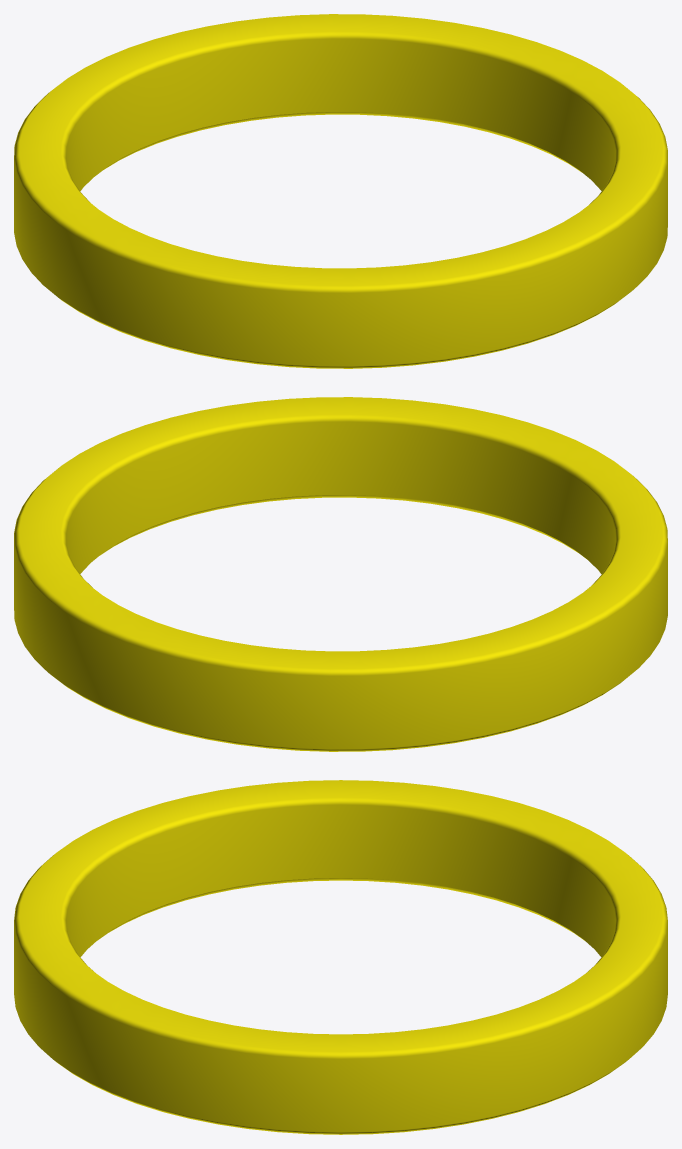
3 renders of one model, top to bottom at view 1: azimuth 30°, elevation 25°; view 2: azimuth 150°, elevation 25°; view 3: azimuth 270°, elevation 25°, orthographic.
Visible parts, largest first — view 1: seal_body; view 2: seal_body; view 3: seal_body.
Boxes of the visible parts, x1,y1,x2,y2 form: seal_body: [14, 14, 667, 368]; seal_body: [14, 397, 667, 751]; seal_body: [14, 780, 667, 1134].
Size of the model in its own units: 0.05 by 0.007 by 0.05.
